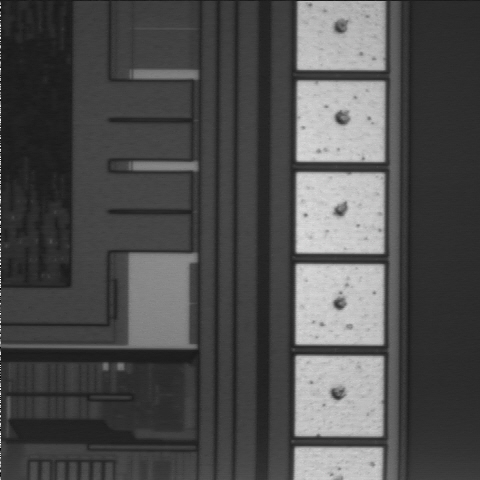pad: (296, 173, 384, 253), (297, 82, 384, 162), (296, 264, 383, 344), (296, 356, 383, 436)
